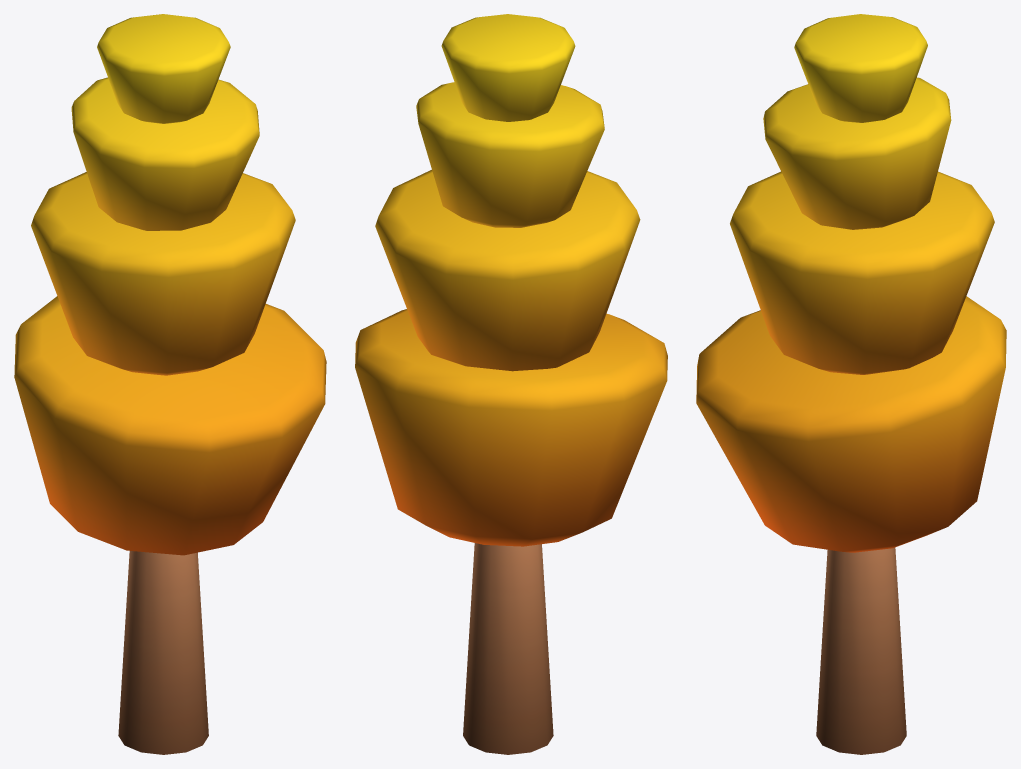
Rendered from lpb_tree_5_b.fbx.
3 views of the same model, side by side, from view 1: azimuth 30°, elevation 25°; view 2: azimuth 150°, elevation 25°; view 3: azimuth 270°, elevation 25° (orthographic).
Parts seen in each view (by area): view 1: ap_tree_5.001; view 2: ap_tree_5.001; view 3: ap_tree_5.001.
Boxes of the visible parts, bbox=[...] form: ap_tree_5.001: bbox=[14, 14, 326, 754]; ap_tree_5.001: bbox=[355, 14, 667, 754]; ap_tree_5.001: bbox=[696, 14, 1006, 754].
Bounding box in the file's own units: 222 × 546 × 220.
